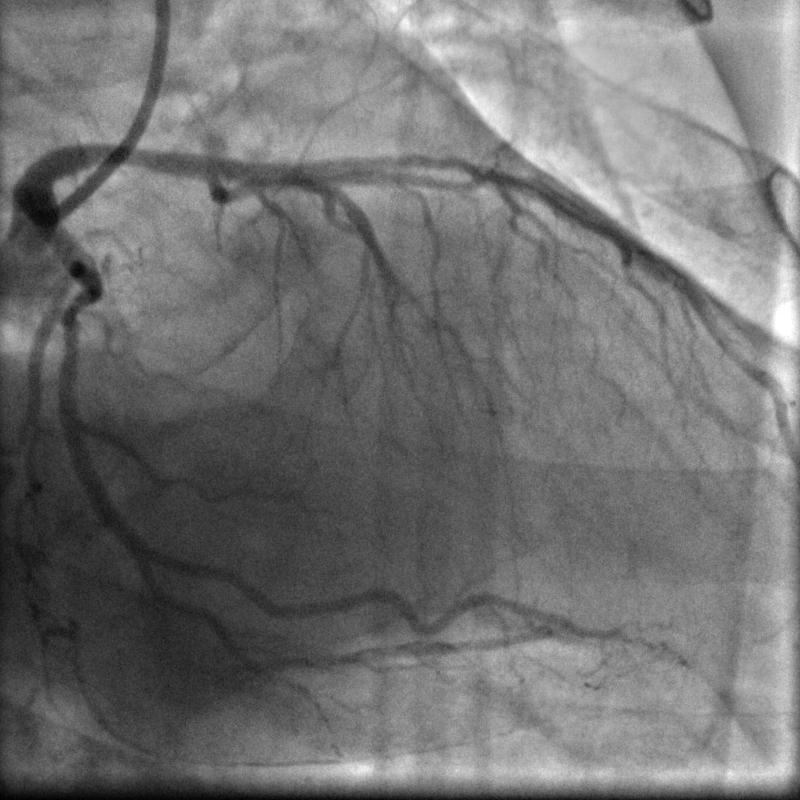Stenosis: (64, 257, 95, 337)
